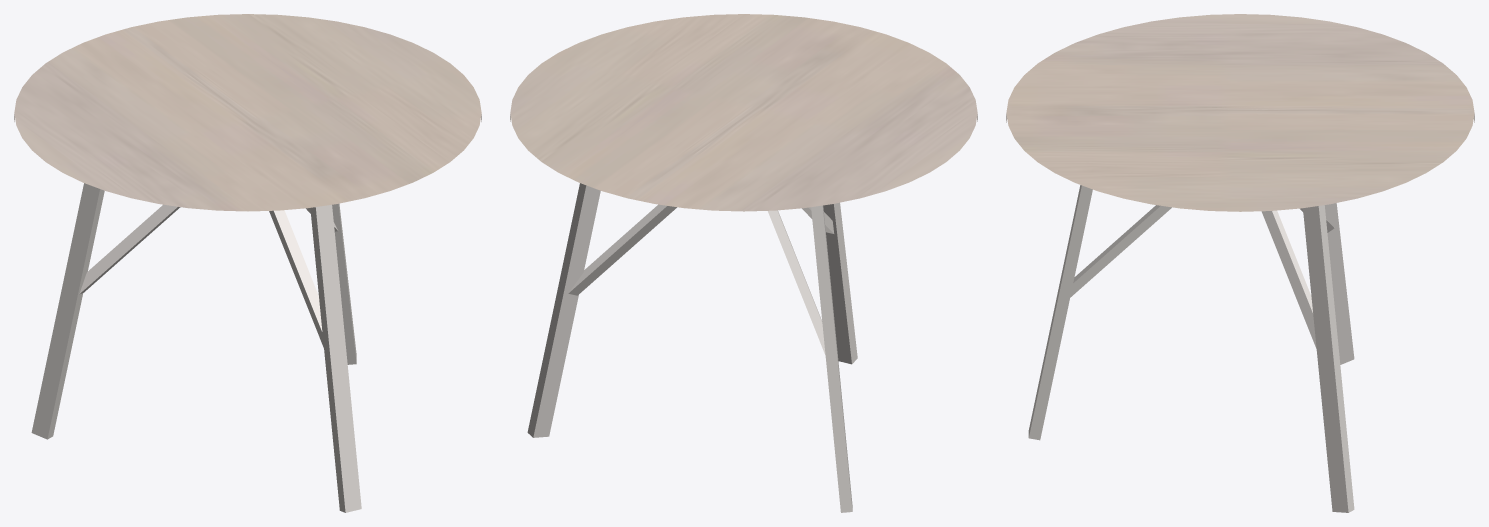
File: mohito.glb
The picture shows the model from 3 angles, left to right: view 1: azimuth 30°, elevation 25°; view 2: azimuth 150°, elevation 25°; view 3: azimuth 270°, elevation 25°; orthographic projection.
Visible parts, largest first — view 1: mohito; view 2: mohito; view 3: mohito.
Part boxes in pixels (box(x1,y1,x2,y2)): mohito: box(14, 14, 481, 512); mohito: box(510, 14, 977, 512); mohito: box(1006, 14, 1474, 512).
Size of the model in its own units: 1 by 0.7644 by 1.
Materials: 2 (1 with a texture image).
